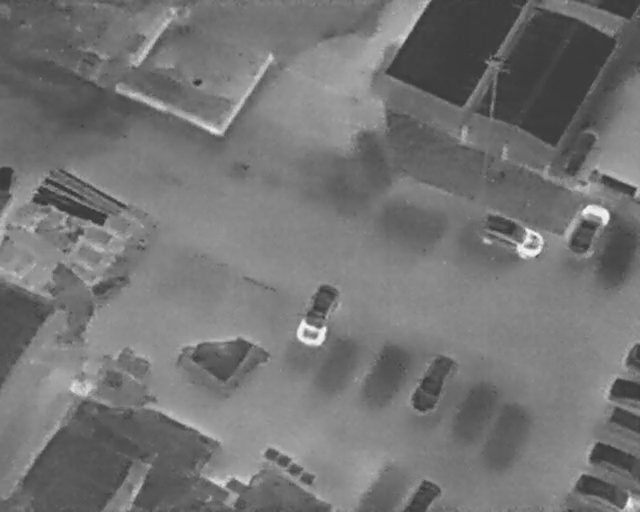Car: (472, 206, 549, 264), (405, 347, 460, 417), (291, 277, 343, 350), (560, 198, 614, 263), (572, 471, 639, 512), (589, 439, 640, 480), (402, 478, 440, 512), (608, 375, 640, 406), (623, 340, 640, 372)
